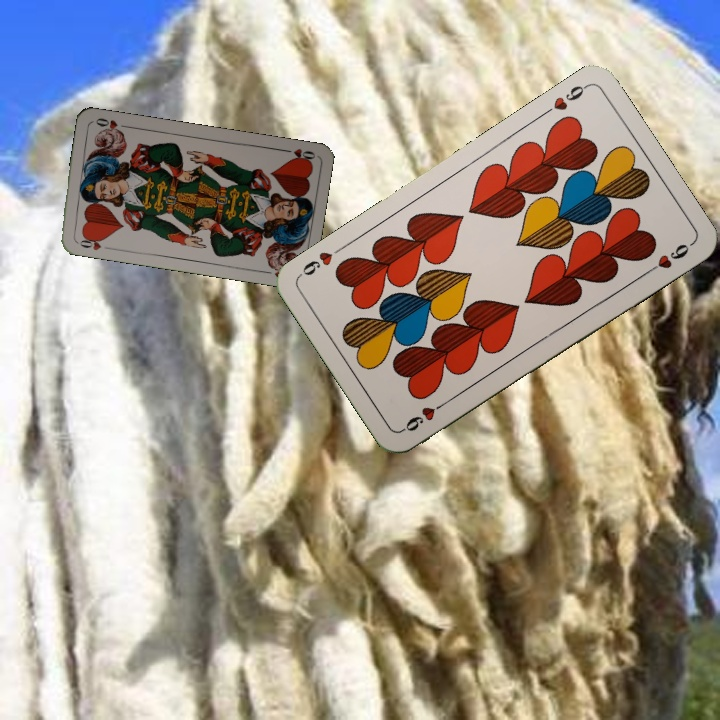H9: (538, 80, 590, 119), (398, 396, 451, 434)
HO: (72, 232, 113, 253), (277, 144, 318, 165)
